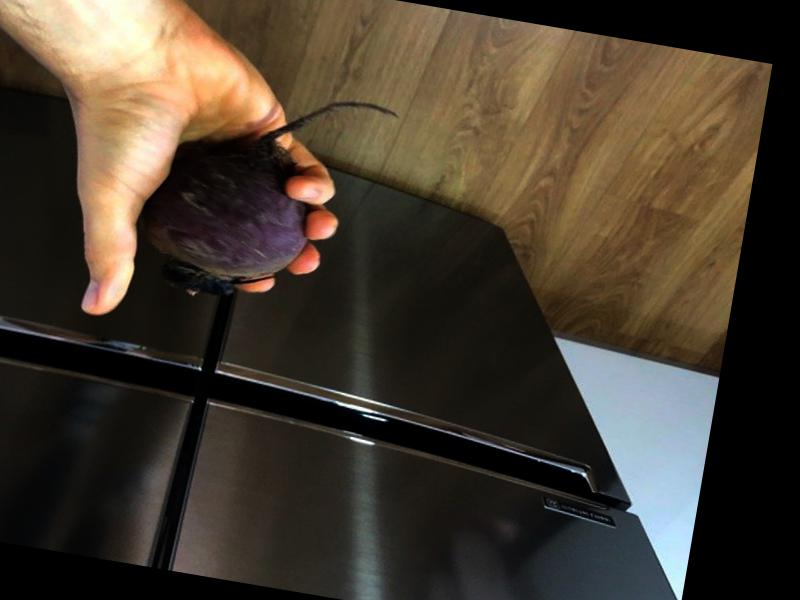Beet: (129, 71, 399, 323)
